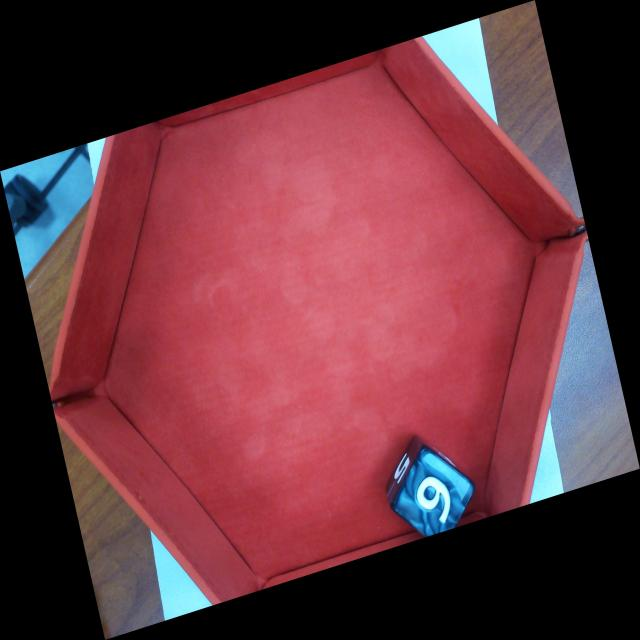dice: (389, 442, 478, 538)
